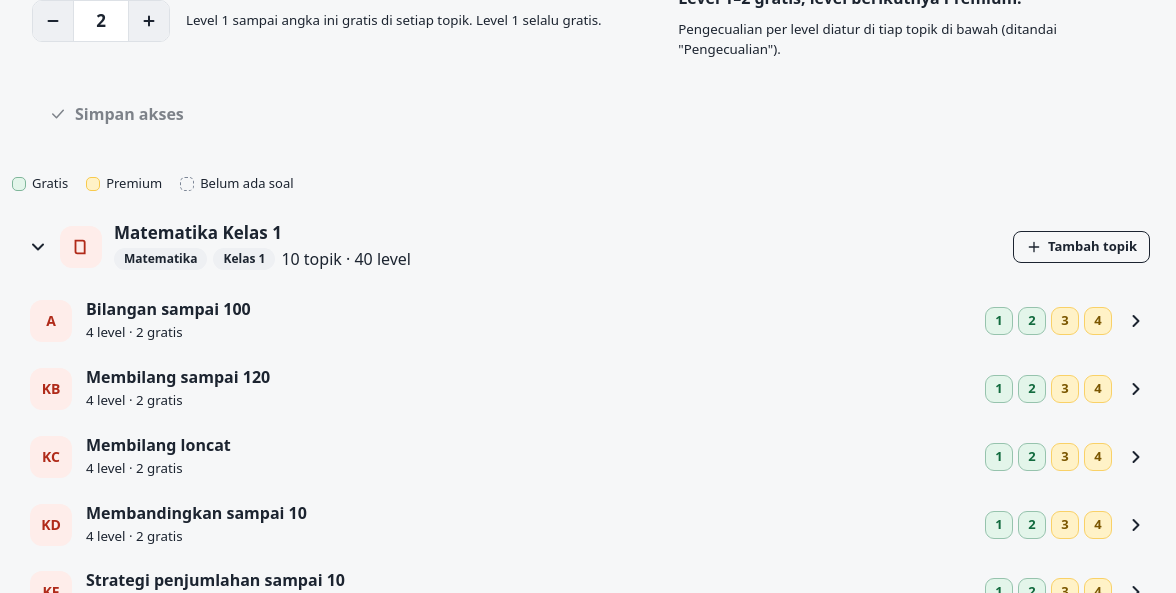
Silabus Belajar: halaman › topik bawaan tidak punya tombol hapus, tetapi tiap levelnya bisa disesuaikan soalnya
The image size is (1176, 593).
(page scrolled)
Click the button with aria-label "Ubah topik Bilangan sampai 100": (51, 321) [12,287,1164,355]
(page scrolled)
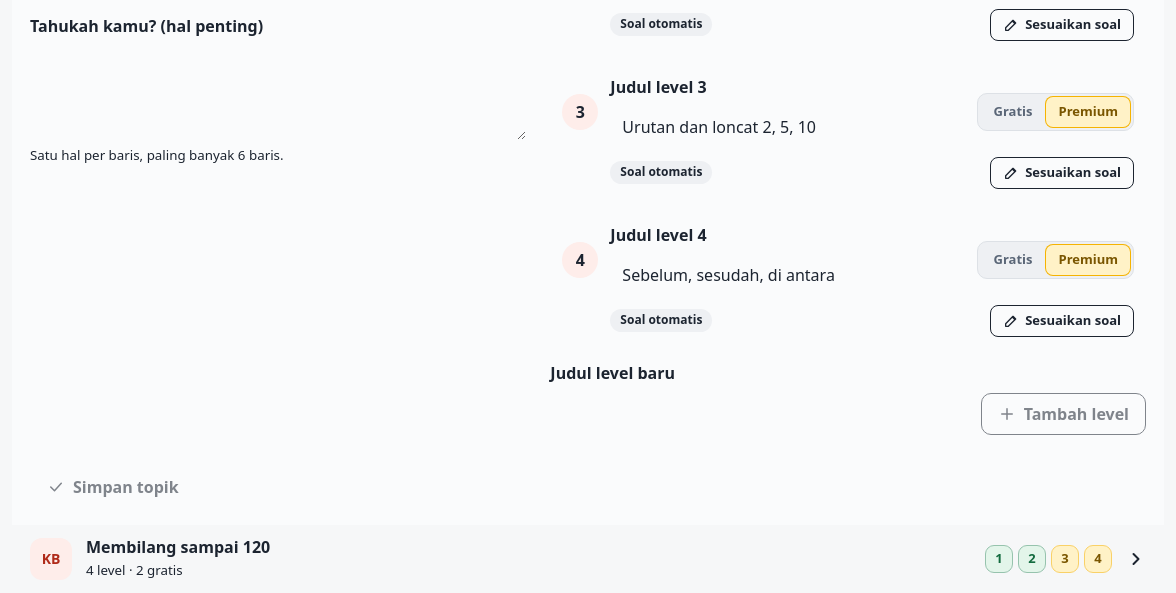
Expected: the element named "Akses level 3" is shown, [978,93,1134,131]
Expected: the text "Soal otomatis" is shown 4 times
